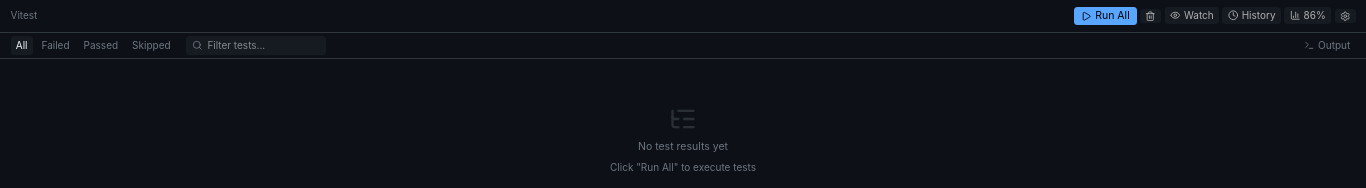
it: TestRunnerPanel › toggles coverage view off when clicked again
Step 1. Click the button "86%" → [1308, 16], box x1=1284 y1=7 x2=1331 y2=24
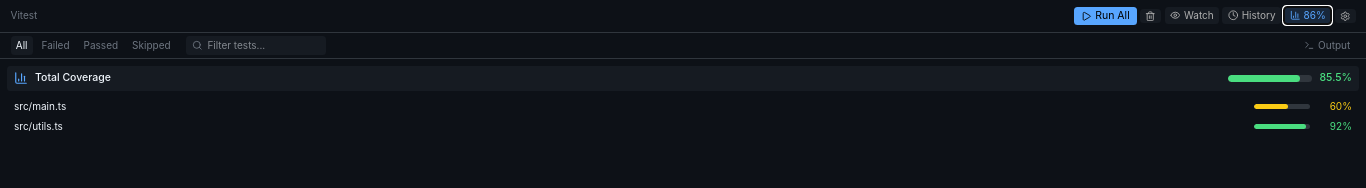
Now the text "Total Coverage" is shown, box x1=35 y1=71 x2=111 y2=85
Step 2. Click the button "86%" → [1308, 16], box x1=1284 y1=7 x2=1331 y2=24
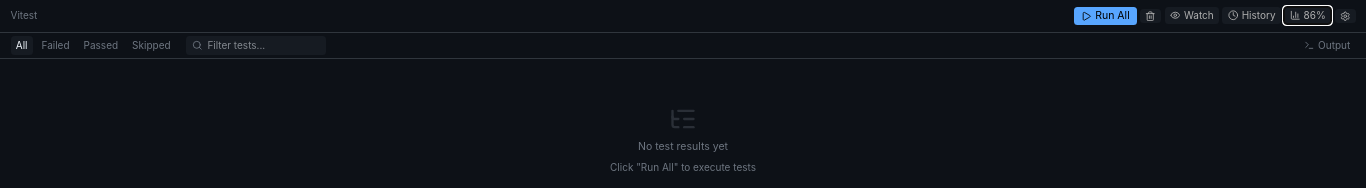
Now the text "Total Coverage" is gone
